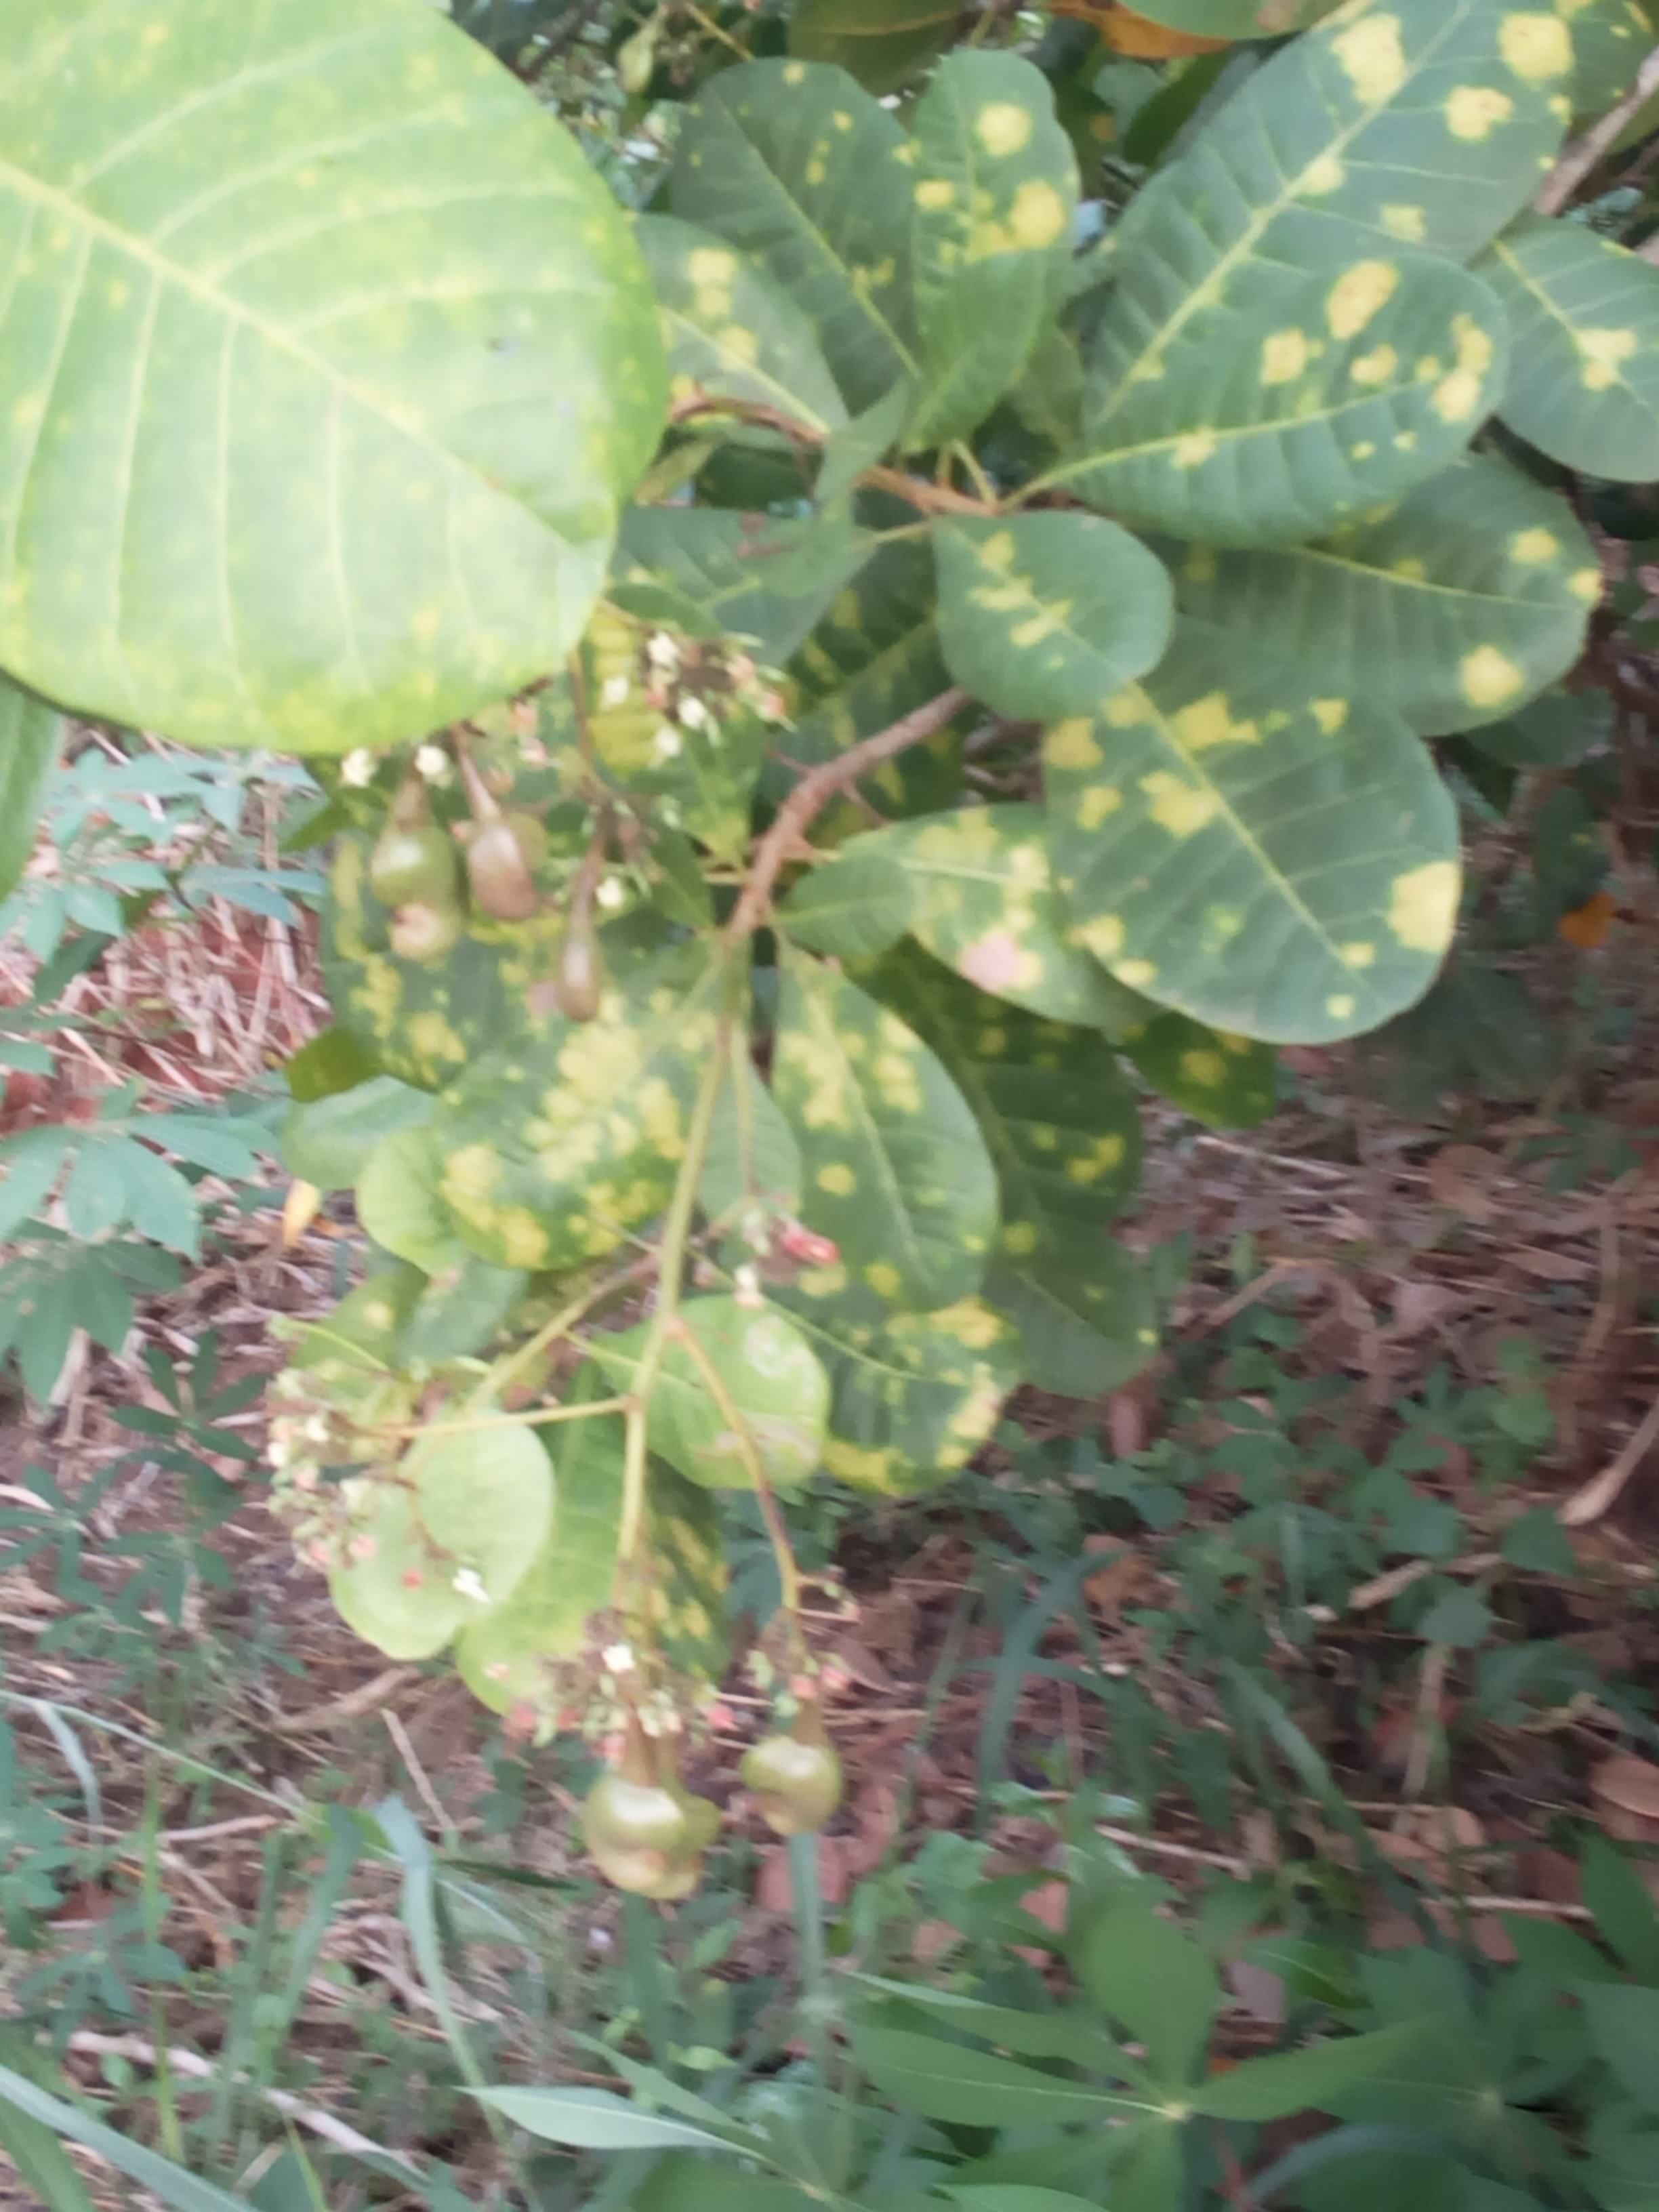Carence minérale: (7, 0, 694, 759), (1026, 597, 1480, 1049), (1110, 0, 1615, 371), (1127, 246, 1534, 540), (382, 970, 755, 1259), (772, 948, 1066, 1296), (671, 52, 962, 388), (464, 1454, 782, 1723), (765, 1299, 1091, 1507), (908, 42, 1101, 374), (924, 507, 1168, 723)
